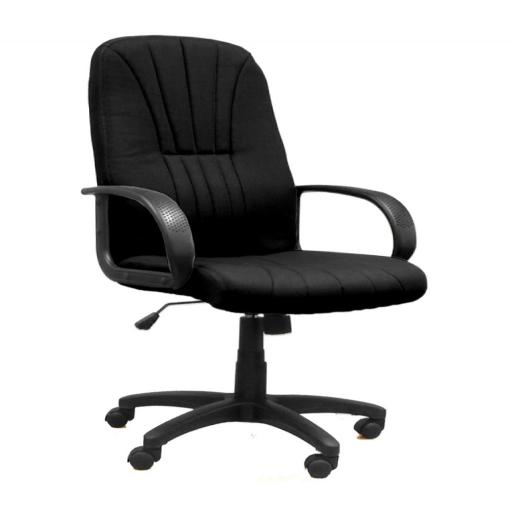chair: (81, 34, 428, 480)
